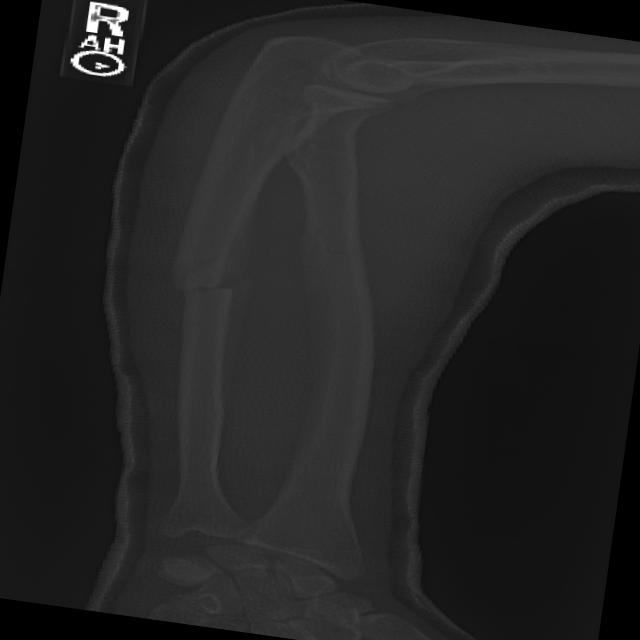forearm fracture: (129, 247, 305, 348)
